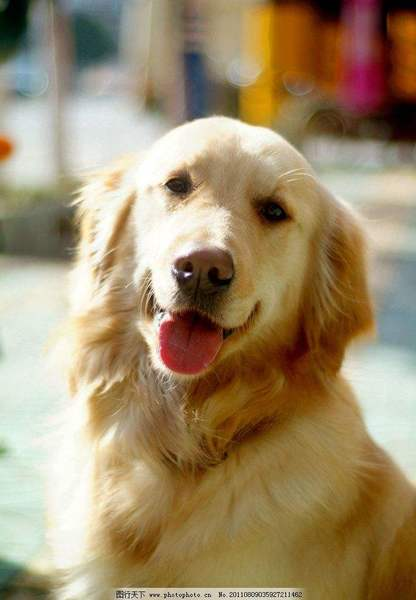dog: (56, 102, 346, 386)
